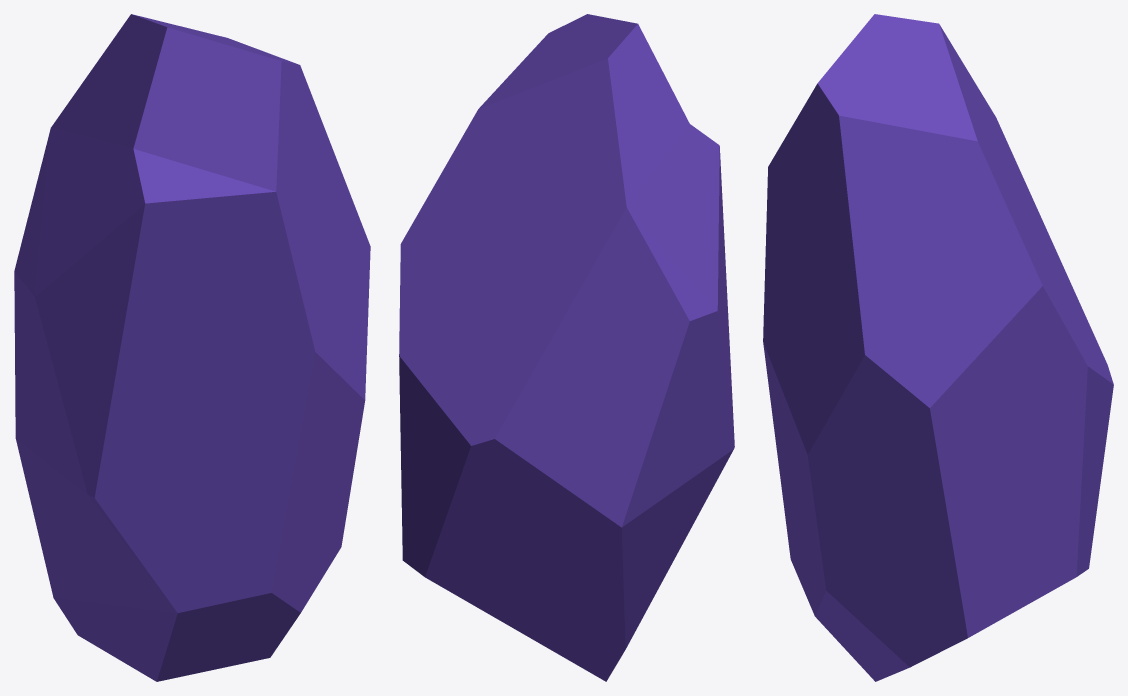
File: Gem_15.fbx
The picture shows the model from 3 angles, left to right: view 1: azimuth 30°, elevation 25°; view 2: azimuth 150°, elevation 25°; view 3: azimuth 270°, elevation 25°; orthographic projection. The views are drawn at different scales.
Visible parts, largest first — view 1: Gem_15; view 2: Gem_15; view 3: Gem_15.
Boxes of the visible parts, x1,y1,x2,y2 form: Gem_15: [14, 14, 370, 681]; Gem_15: [399, 14, 734, 681]; Gem_15: [763, 14, 1113, 681].
Bounding box in the file's own units: 39.3 × 78.5 × 39.24.
